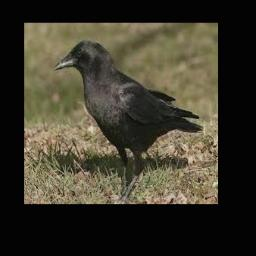Crow: (55, 39, 201, 204)
